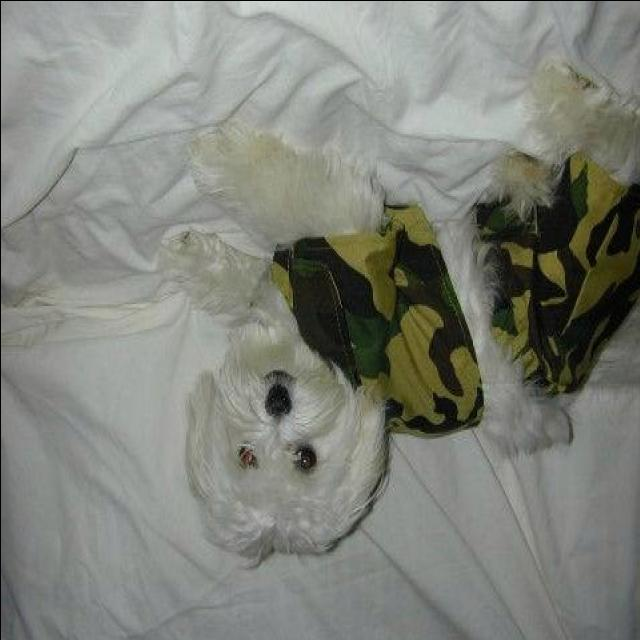maltese_dog: (157, 62, 639, 573)
